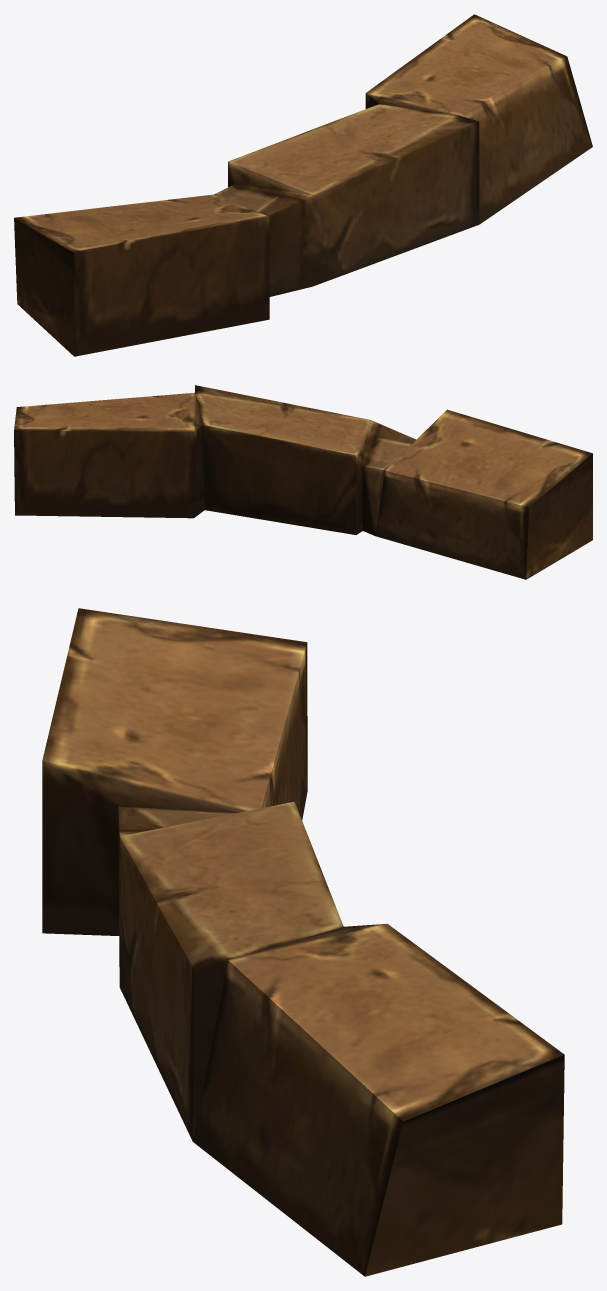
The model's file is ShiZhuan04.FBX.
The picture shows the model from 3 angles, top to bottom: view 1: azimuth 30°, elevation 25°; view 2: azimuth 150°, elevation 25°; view 3: azimuth 270°, elevation 25°; orthographic projection. The views are drawn at different scales.
Visible parts, largest first — view 1: ShiZhuan04; view 2: ShiZhuan04; view 3: ShiZhuan04.
Boxes of the visible parts, bbox=[...] form: ShiZhuan04: bbox=[14, 14, 592, 356]; ShiZhuan04: bbox=[14, 385, 592, 579]; ShiZhuan04: bbox=[42, 608, 564, 1276].
Size of the model in its own units: 391 by 64.11 by 175.
